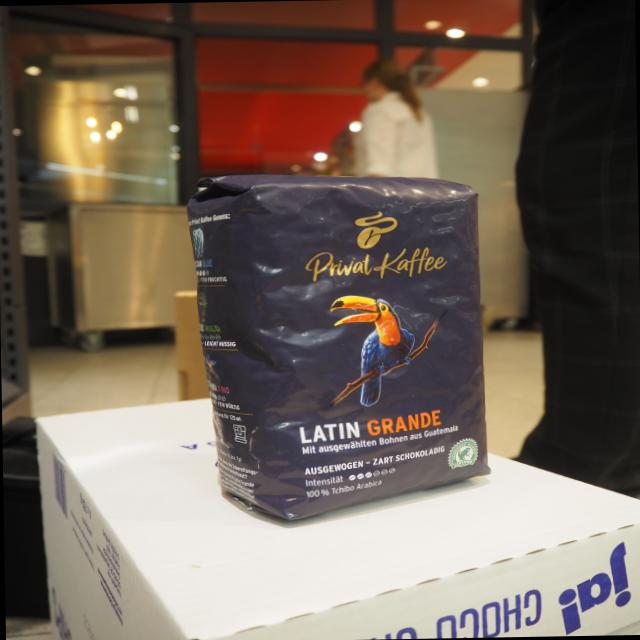LG Bohne: (168, 170, 496, 548)
